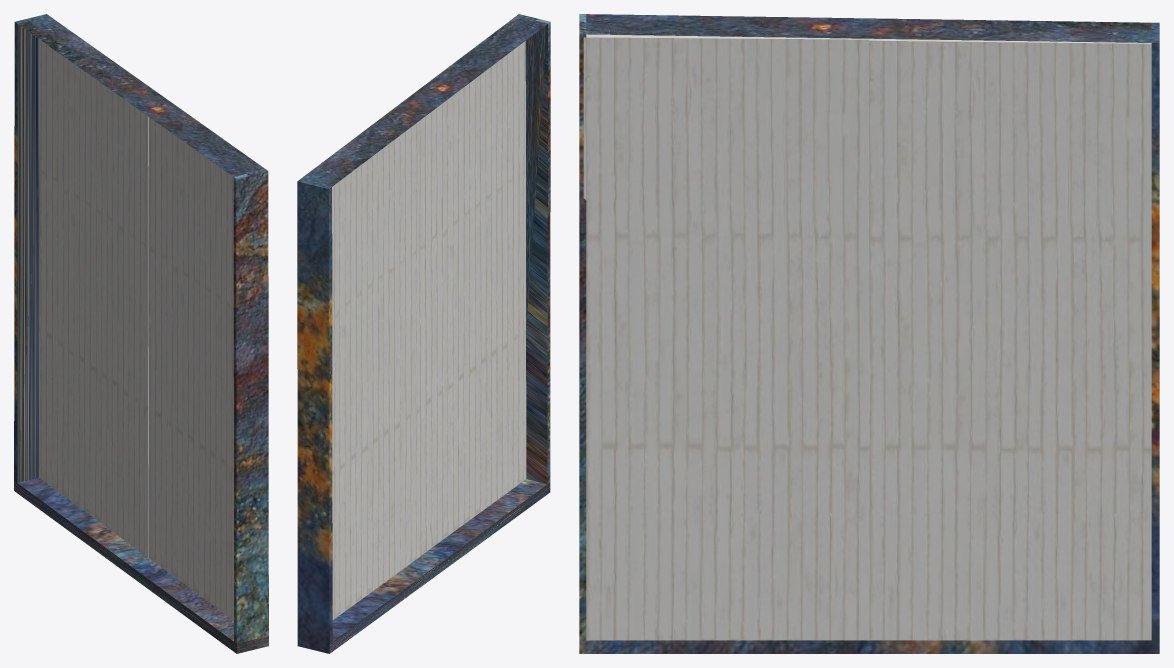
Rendered from Door.fbx.
The picture shows the model from 3 angles, left to right: view 1: azimuth 30°, elevation 25°; view 2: azimuth 150°, elevation 25°; view 3: azimuth 270°, elevation 25°; orthographic projection. The views are drawn at different scales.
Visible parts, largest first — view 1: Cube.002, Cube, Cube.001; view 2: Cube.001, Cube, Cube.002; view 3: Cube.001, Cube.002, Cube.
Part boxes in pixels (box(x1,y1,x2,y2)): Cube.002: box(39, 40, 148, 557); Cube: box(14, 14, 268, 653); Cube.001: box(148, 117, 233, 620); Cube.001: box(419, 41, 526, 556); Cube: box(297, 14, 550, 653); Cube.002: box(332, 121, 419, 619); Cube.001: box(583, 34, 868, 640); Cube.002: box(869, 38, 1151, 640); Cube: box(579, 14, 1159, 653).
Bounding box in the file's own units: 117 × 1608 × 1366.
2 materials, 2 textured.
